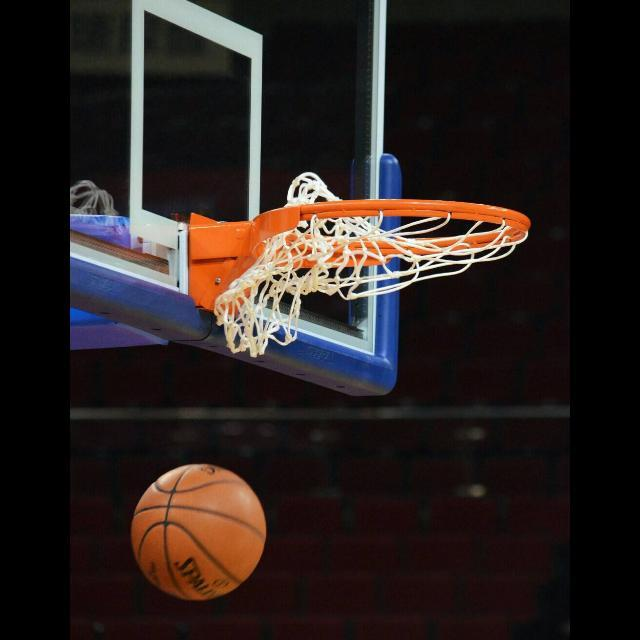basketball: (132, 464, 266, 600)
